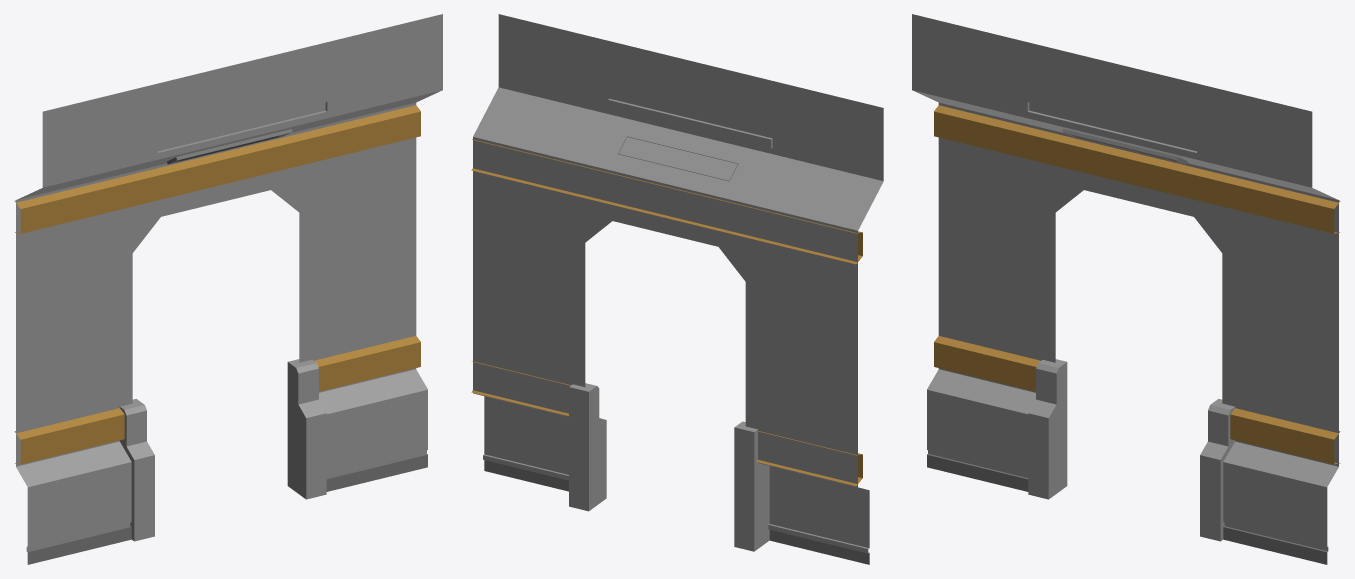
File: DoorSingle_Wall_SideB.glb
3 views of the same model, side by side, from view 1: azimuth 30°, elevation 25°; view 2: azimuth 150°, elevation 25°; view 3: azimuth 330°, elevation 25° (orthographic). The views are drawn at different scales.
Parts seen in each view (by area): view 1: DoorSingle_Wall_SideB; view 2: DoorSingle_Wall_SideB; view 3: DoorSingle_Wall_SideB.
Part boxes in pixels (left/top/right/bottom): DoorSingle_Wall_SideB: left=14, top=14, right=442, bottom=564; DoorSingle_Wall_SideB: left=471, top=14, right=883, bottom=564; DoorSingle_Wall_SideB: left=912, top=14, right=1340, bottom=564.
Bounding box in the file's own units: 1.36 × 1.51 × 0.1804.
